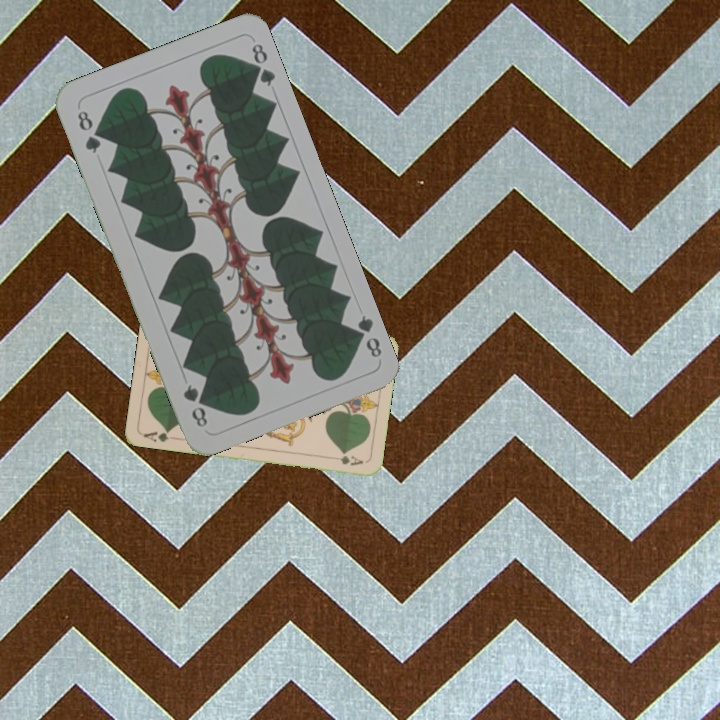G8: (348, 311, 385, 361), (73, 106, 104, 156)
GA: (139, 426, 180, 445)
